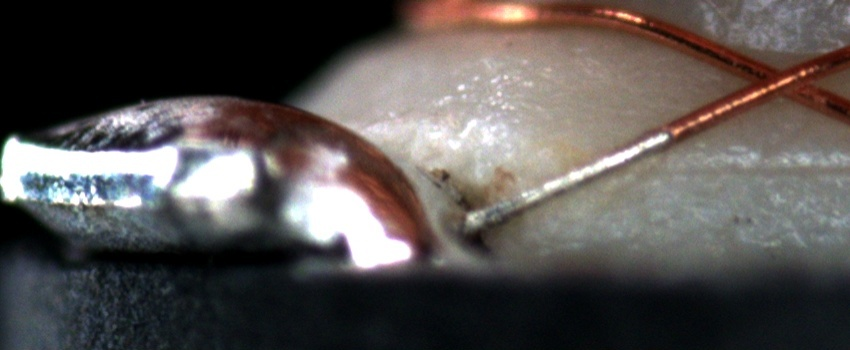CL: (727, 52, 827, 111)
DL: (664, 142, 850, 202)
TS: (462, 129, 673, 232)
